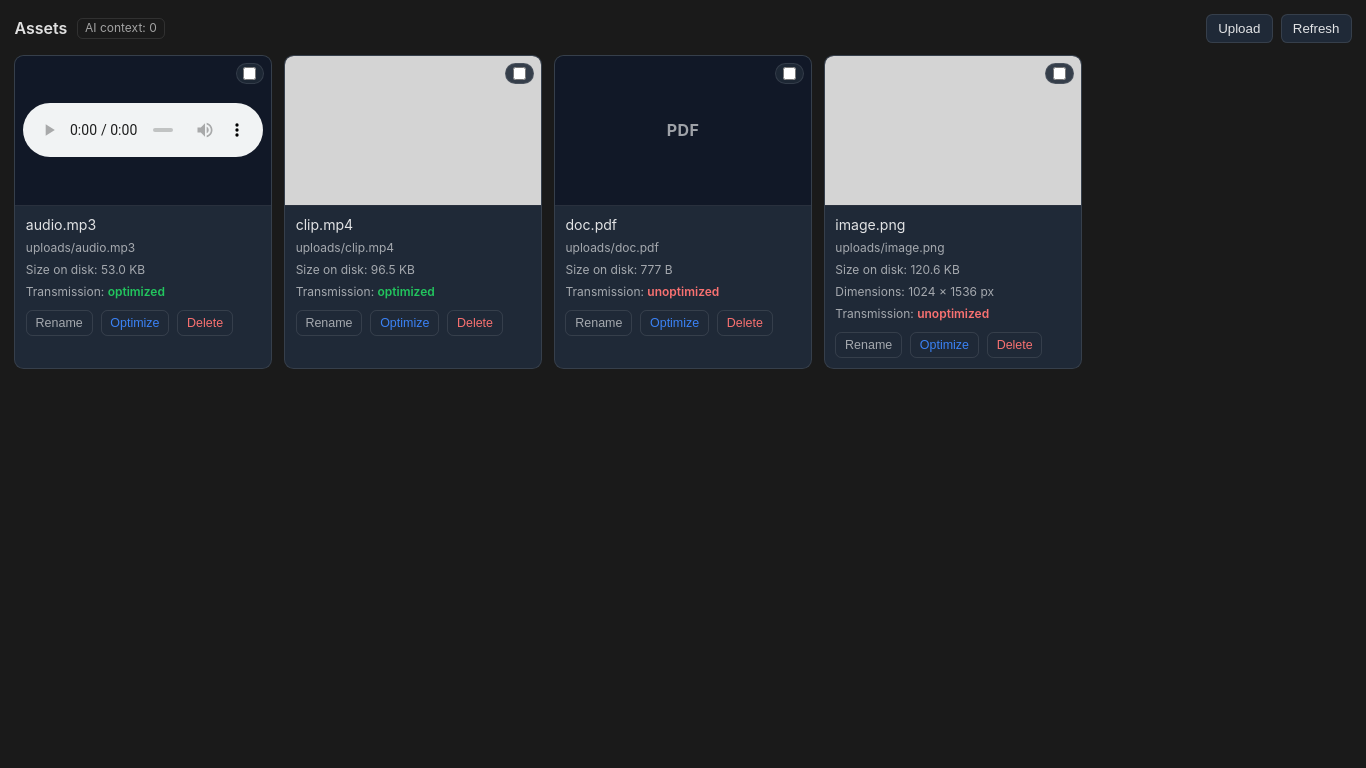
AssetsTab › shows validation error when name includes an extension suffix
Click the button with class "assets-tab__action--rename" below "Dimensions:" at (869, 345), box [835,332,902,358]
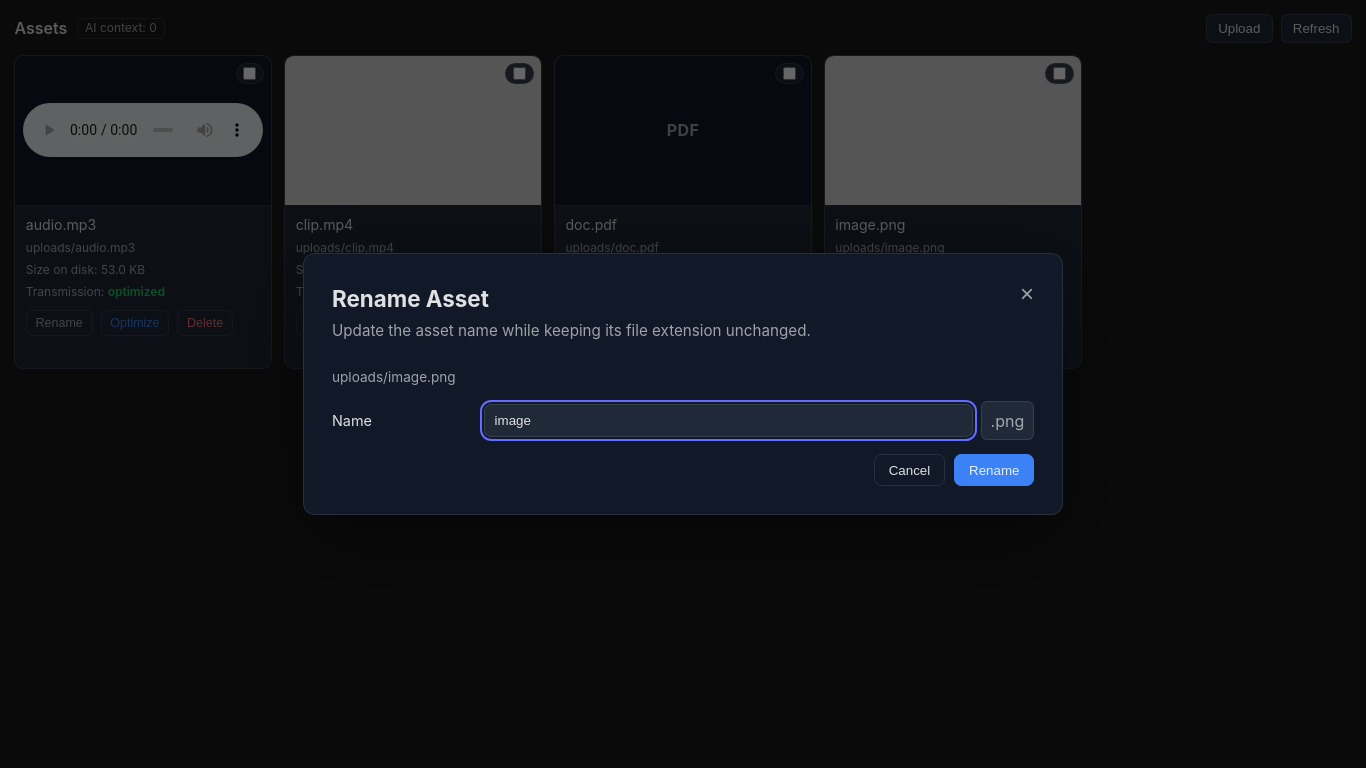
Now the text with test id "asset-rename-extension" reads ".png", box [981,401,1034,440]
Replace the text in the field labelled "Name .png" with "hero.jpg" at (728, 421), box [484,404,973,437]
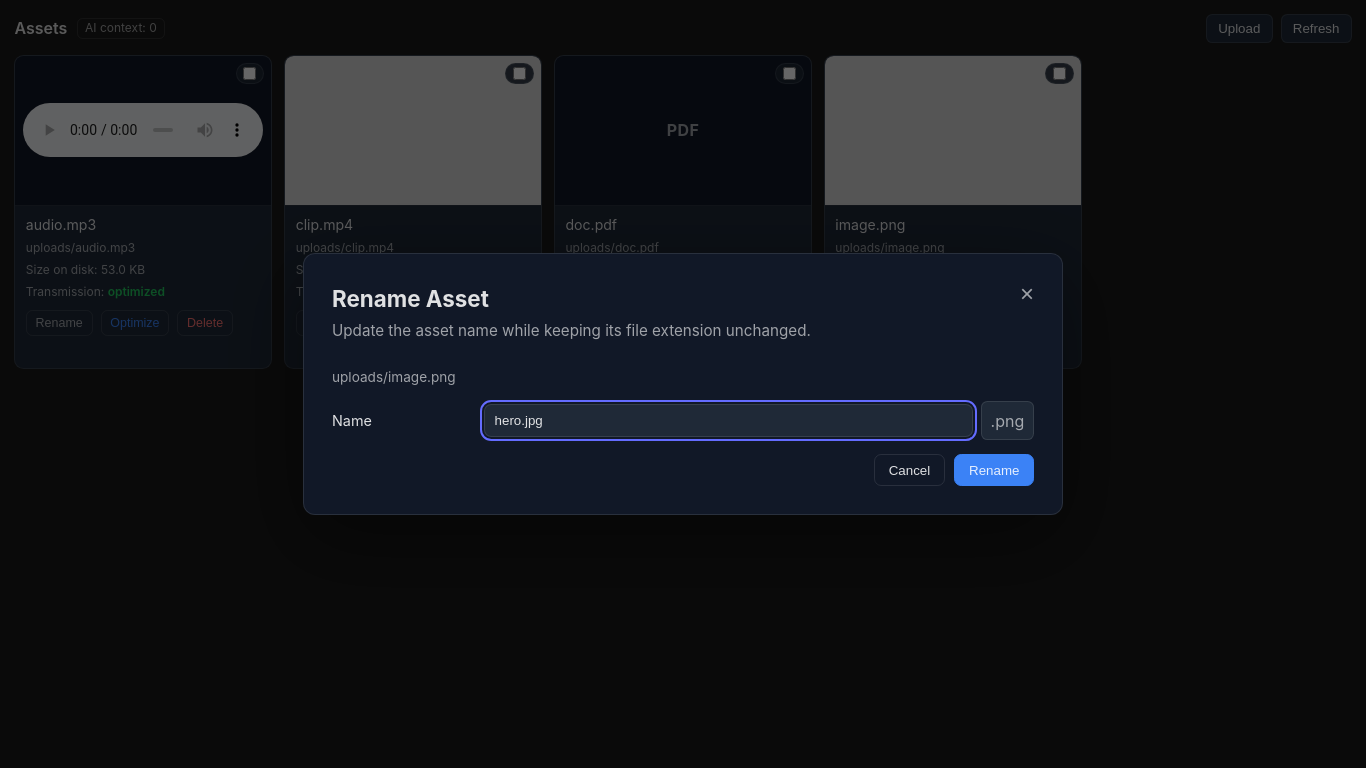
Click the button "Rename" at (994, 470), box [954,454,1034,486]
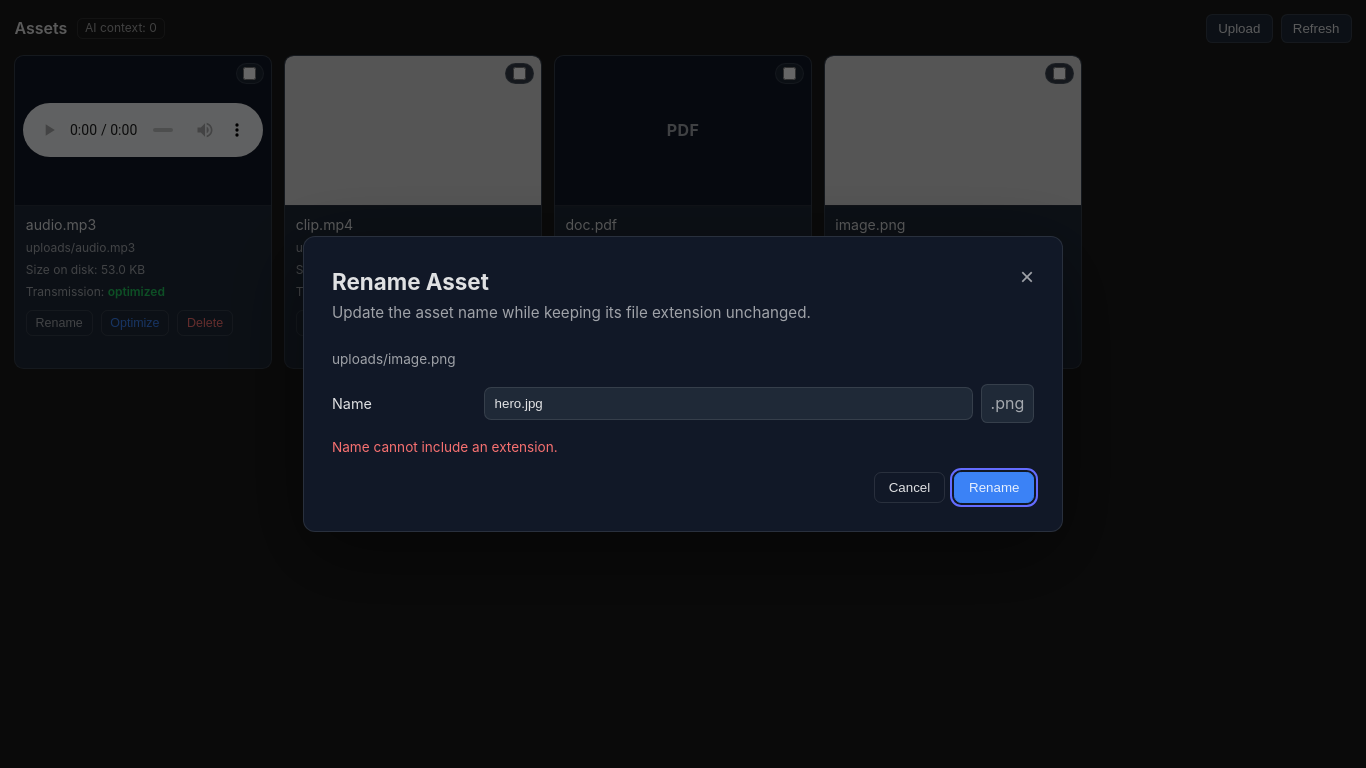
Now the text with test id "asset-rename-error" reads "Name cannot include an extension.", box [332,439,558,455]
